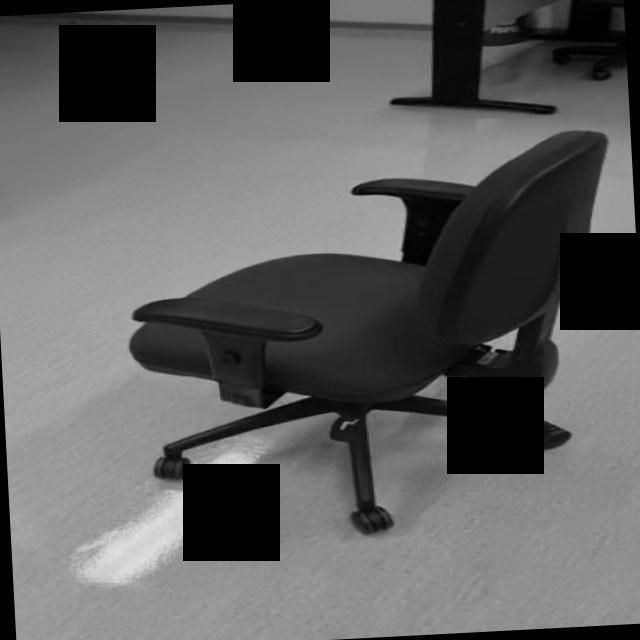chair: (119, 129, 627, 546)
